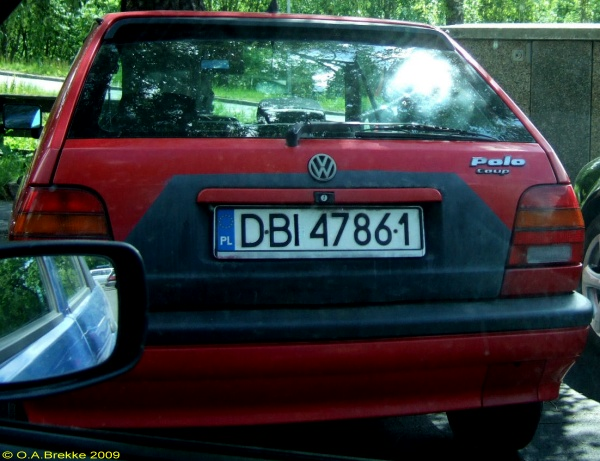number_plate: (215, 202, 426, 258)
